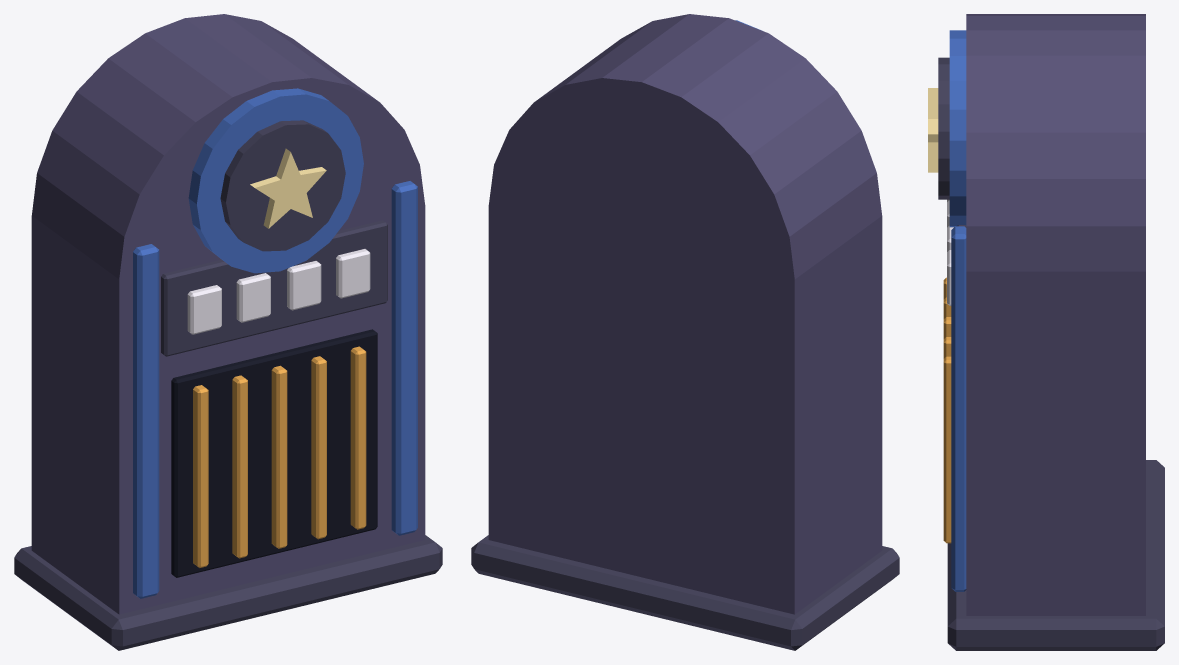
File: 07_Comet_Jukebox.glb
3 views of the same model, side by side, from view 1: azimuth 30°, elevation 25°; view 2: azimuth 150°, elevation 25°; view 3: azimuth 270°, elevation 25° (orthographic). The views are drawn at different scales.
Parts seen in each view (by area): view 1: 07_Comet_Jukebox__Body; view 2: 07_Comet_Jukebox__Body; view 3: 07_Comet_Jukebox__Body.
Part boxes in pixels (x1,y1,x2,y2): 07_Comet_Jukebox__Body: (14, 14, 442, 650); 07_Comet_Jukebox__Body: (471, 14, 899, 650); 07_Comet_Jukebox__Body: (928, 14, 1164, 650).
Bounding box in the file's own units: 2.1 × 3.19 × 1.26.
1 material, 1 textured.
